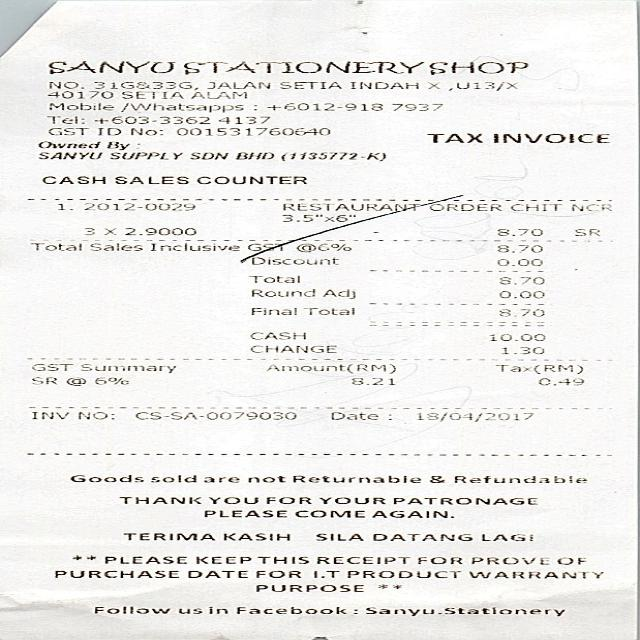text: (51, 59, 525, 74), (363, 606, 562, 616), (131, 411, 298, 420), (265, 363, 396, 373), (118, 102, 242, 112), (174, 127, 328, 135), (491, 132, 608, 142), (416, 411, 534, 420), (453, 474, 585, 482), (279, 151, 384, 161), (74, 363, 179, 373), (92, 80, 196, 90), (93, 115, 208, 124), (291, 474, 418, 482), (391, 497, 535, 504), (234, 606, 356, 614), (493, 363, 581, 374), (281, 203, 418, 210), (467, 571, 602, 578), (344, 570, 459, 578), (83, 202, 193, 210), (253, 584, 362, 592), (53, 570, 177, 577), (425, 202, 500, 213), (280, 102, 381, 110), (371, 533, 471, 541), (195, 176, 305, 183), (316, 556, 408, 564), (149, 242, 238, 250), (249, 256, 337, 264), (249, 344, 335, 352), (203, 509, 285, 517), (103, 555, 185, 563), (121, 533, 213, 540), (446, 81, 515, 90), (92, 605, 169, 613), (107, 151, 181, 159), (68, 474, 142, 482), (369, 510, 452, 517), (122, 227, 194, 235), (117, 496, 199, 503), (424, 132, 481, 142), (347, 80, 417, 88), (294, 242, 350, 252), (468, 557, 547, 564), (294, 510, 363, 518), (246, 273, 301, 283), (316, 496, 384, 504), (44, 90, 110, 98), (112, 176, 187, 183), (35, 151, 100, 159), (48, 102, 112, 110), (250, 288, 313, 296), (119, 90, 181, 98), (36, 140, 98, 148), (328, 410, 377, 420), (278, 80, 339, 88), (185, 570, 246, 578), (222, 533, 288, 540), (193, 556, 250, 564), (40, 176, 104, 183), (248, 331, 304, 339), (205, 81, 268, 88), (488, 332, 543, 340), (89, 242, 141, 250), (255, 556, 307, 564), (28, 410, 69, 420), (29, 242, 80, 250), (188, 91, 245, 98), (510, 203, 559, 211), (207, 496, 256, 504), (496, 308, 544, 316), (31, 362, 69, 372), (494, 258, 541, 266), (496, 290, 543, 298), (495, 244, 541, 252), (249, 306, 295, 314), (216, 116, 268, 123), (308, 306, 353, 314), (149, 474, 194, 482), (264, 496, 309, 504), (498, 346, 542, 354), (349, 376, 393, 384), (416, 556, 460, 564), (391, 103, 440, 110), (314, 533, 362, 540), (569, 203, 610, 211), (46, 115, 82, 124), (495, 228, 541, 235), (497, 277, 543, 284), (253, 570, 299, 577), (47, 127, 87, 135), (245, 242, 285, 250), (537, 378, 582, 385), (233, 151, 272, 159), (480, 534, 530, 540), (321, 289, 354, 298), (76, 411, 108, 420), (187, 152, 227, 159), (92, 376, 127, 384), (281, 213, 312, 222), (48, 80, 82, 88), (246, 475, 283, 482), (106, 140, 130, 150), (130, 128, 162, 135), (205, 604, 227, 614), (29, 376, 56, 384), (202, 476, 238, 482), (572, 228, 598, 236), (311, 570, 337, 578), (176, 606, 202, 614), (555, 557, 584, 564), (322, 214, 347, 222), (95, 127, 119, 135), (64, 376, 84, 385), (55, 202, 71, 210), (428, 474, 444, 482), (101, 228, 114, 235), (82, 227, 92, 235), (426, 83, 437, 88)
